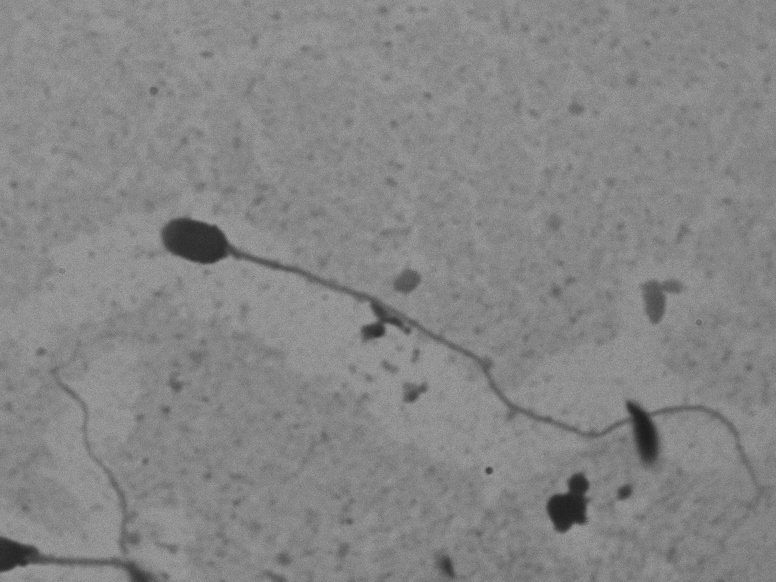Normal: (142, 188, 761, 541)
